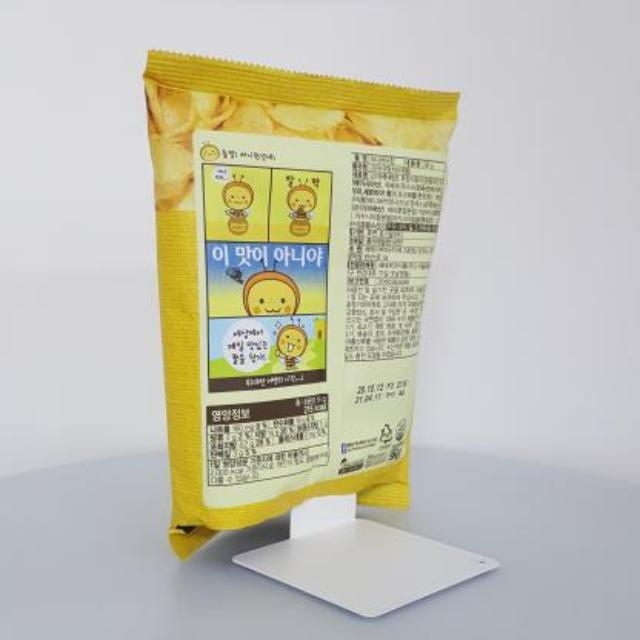snack_bag: (132, 30, 466, 578)
